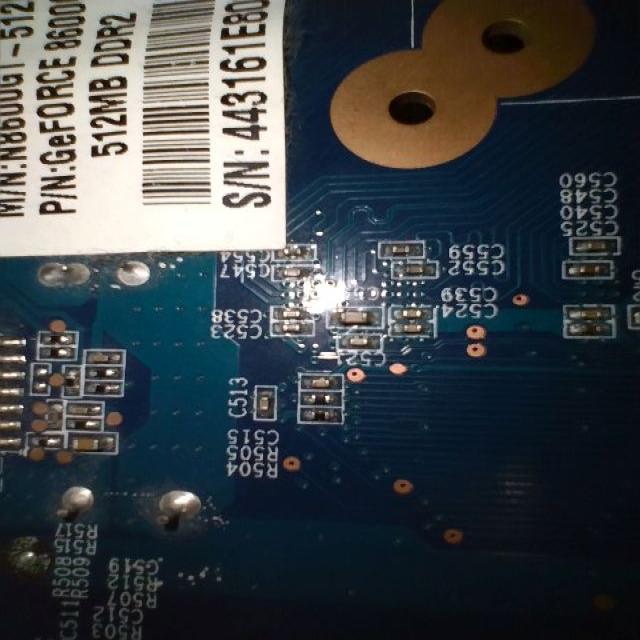capacitor: (252, 379, 278, 430), (337, 304, 381, 332), (573, 236, 631, 256), (87, 340, 129, 366), (74, 431, 114, 458), (566, 261, 612, 284), (390, 314, 437, 334), (561, 306, 618, 320), (278, 265, 320, 284), (384, 304, 439, 318), (303, 368, 339, 389), (382, 238, 425, 255), (394, 262, 439, 278), (274, 308, 319, 324), (342, 327, 378, 347), (268, 326, 308, 342), (68, 402, 105, 417)
resistor: (83, 378, 127, 403), (298, 408, 350, 424), (34, 368, 54, 404), (39, 348, 78, 363), (62, 363, 79, 397), (36, 330, 84, 342), (306, 394, 350, 406), (88, 366, 125, 378)
